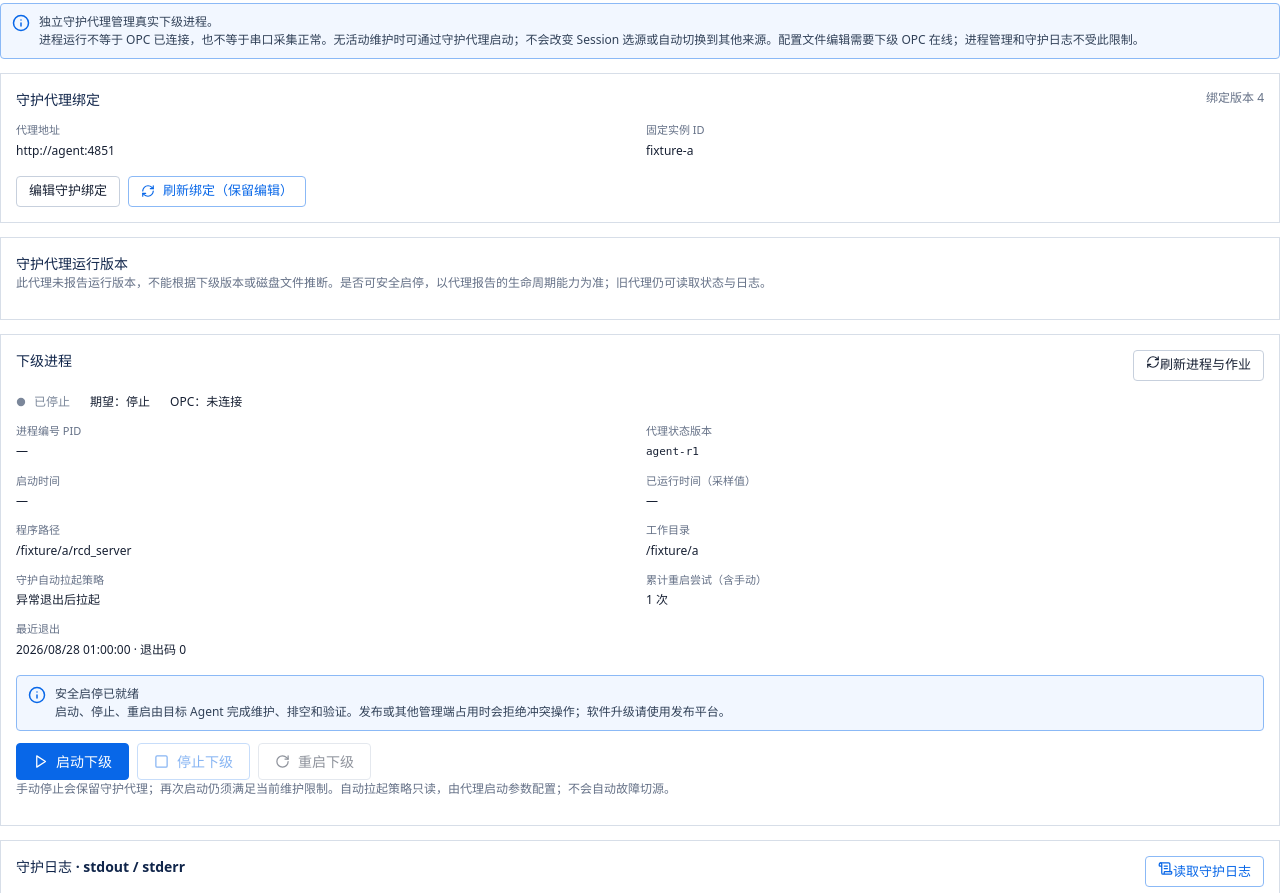
Test: physical process management › waits for the same accepted ID to reach terminal and keeps pending readable
The width and height of the screenshot is (1280, 893).
Expected: the heading "下级进程" is shown, 16,350 -> 72,370
Click the button "启动下级" at (72, 761), box 16,742 -> 129,780
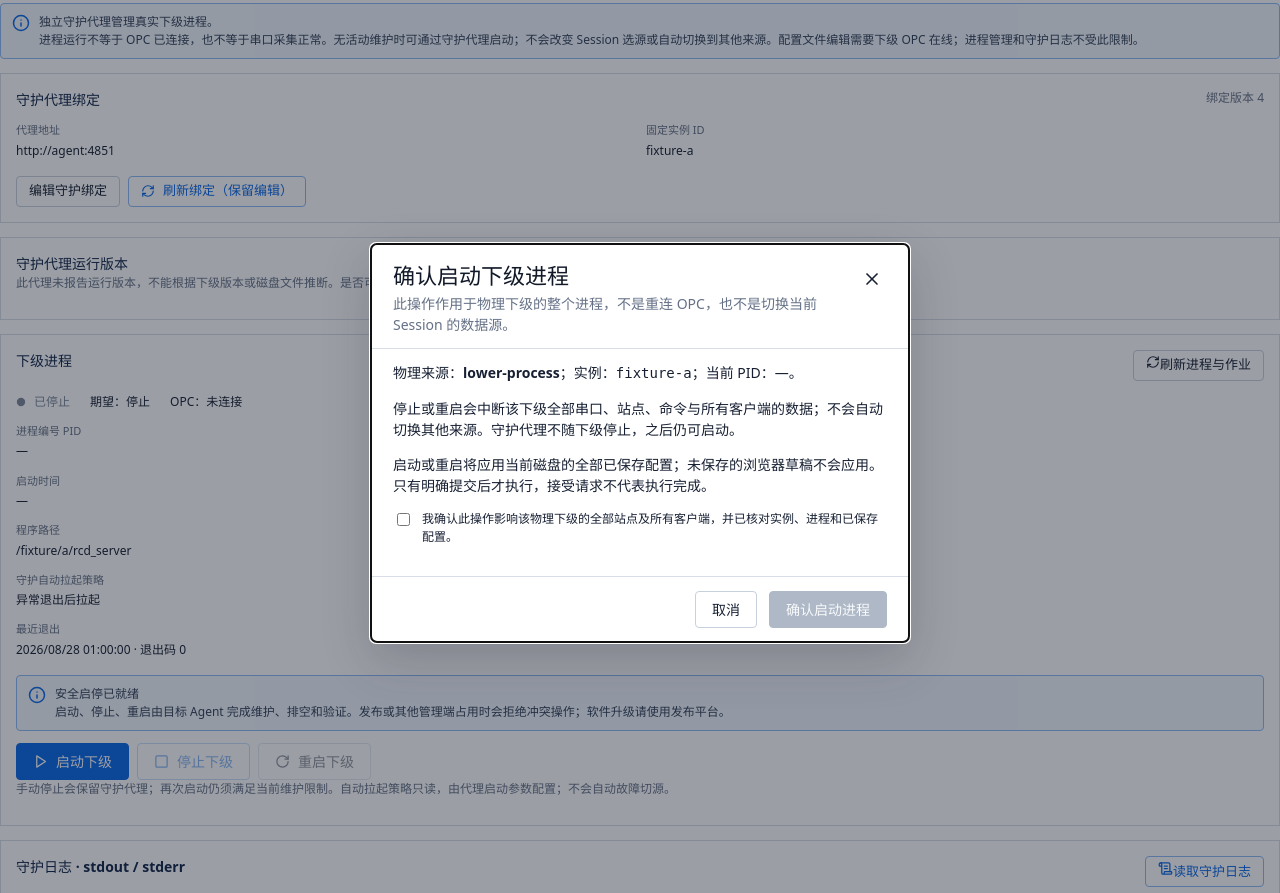
Click the checkbox labelled "我确认此操作影响该物理下级的全部站点及所有客户端，并已核对实例、进程和已保存配置。" at (404, 520), box 397,513 -> 410,526
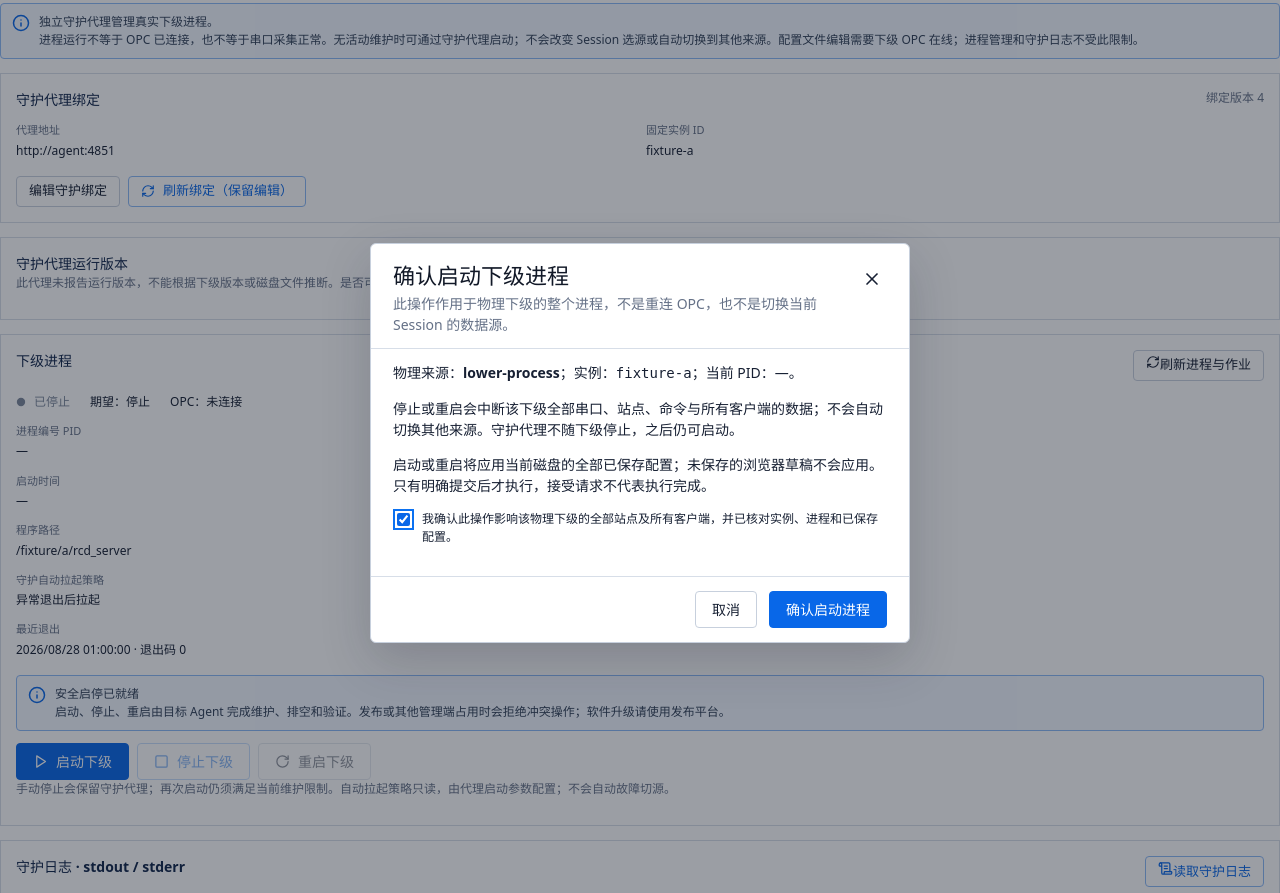
Click the button "确认启动进程" at (828, 610), box 769,591 -> 887,628
(page scrolled)
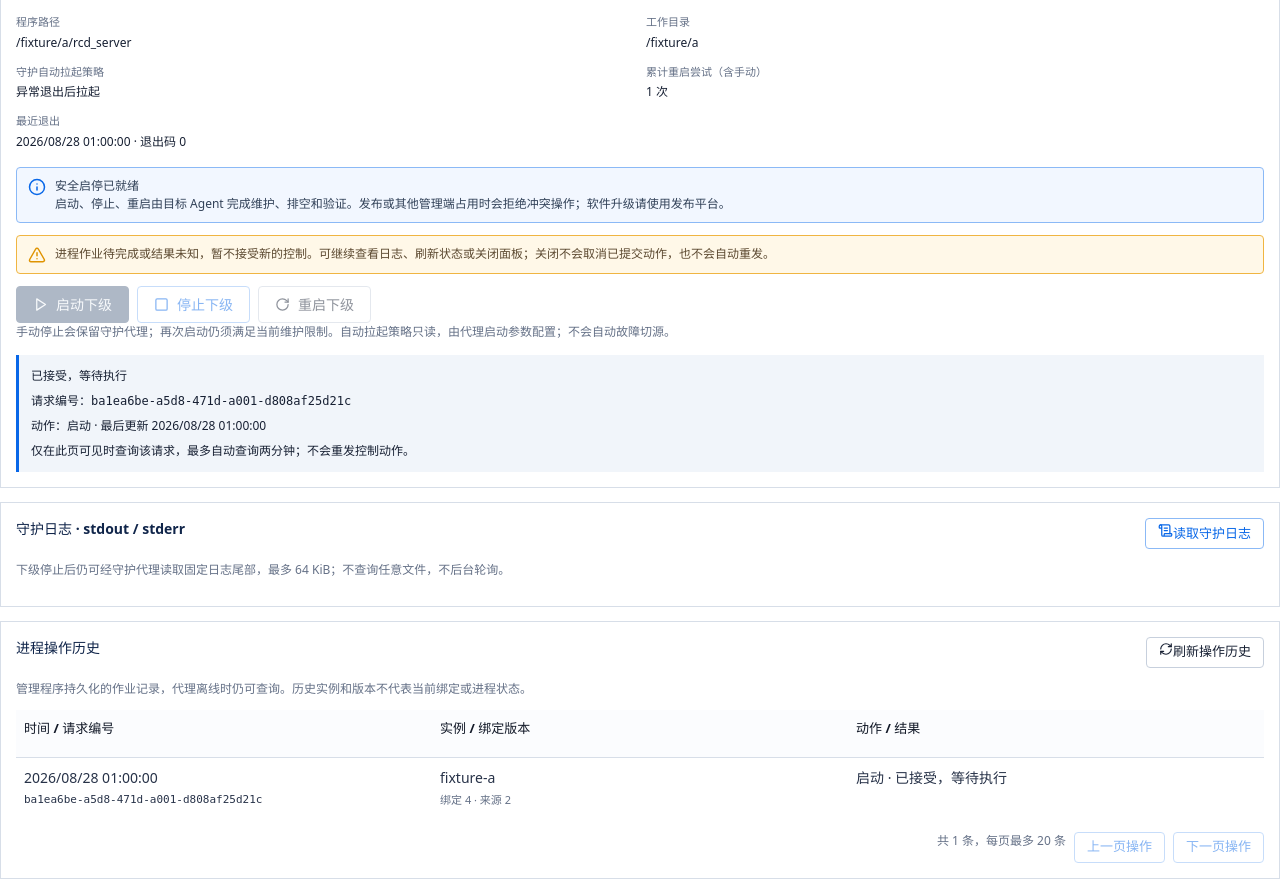
Expected: the text "已接受，等待执行" is shown, 31,366 -> 127,384
Click the button "读取守护日志" at (1204, 533), box 1145,518 -> 1264,548
(page scrolled)
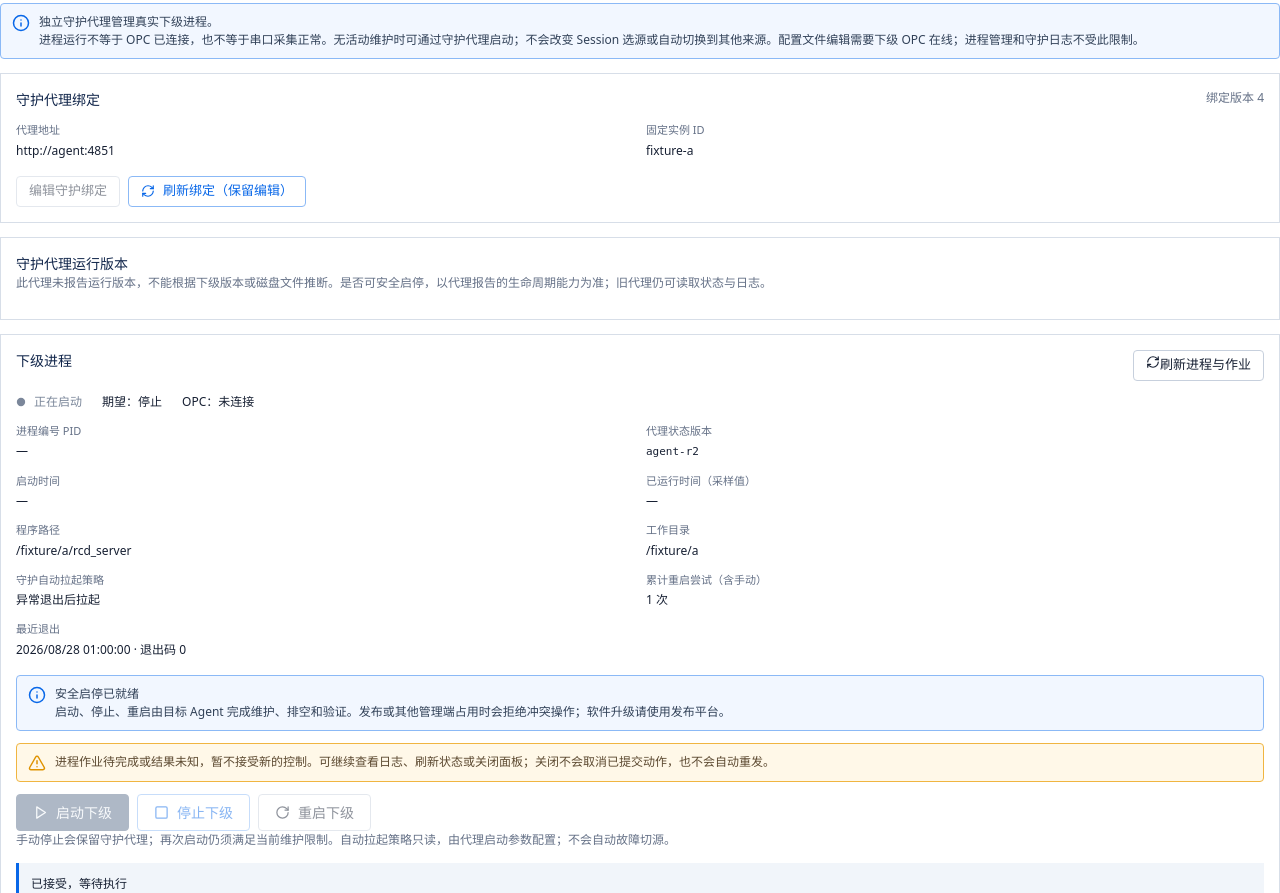
Click the button "刷新进程与作业" at (1198, 365), box 1133,350 -> 1264,380
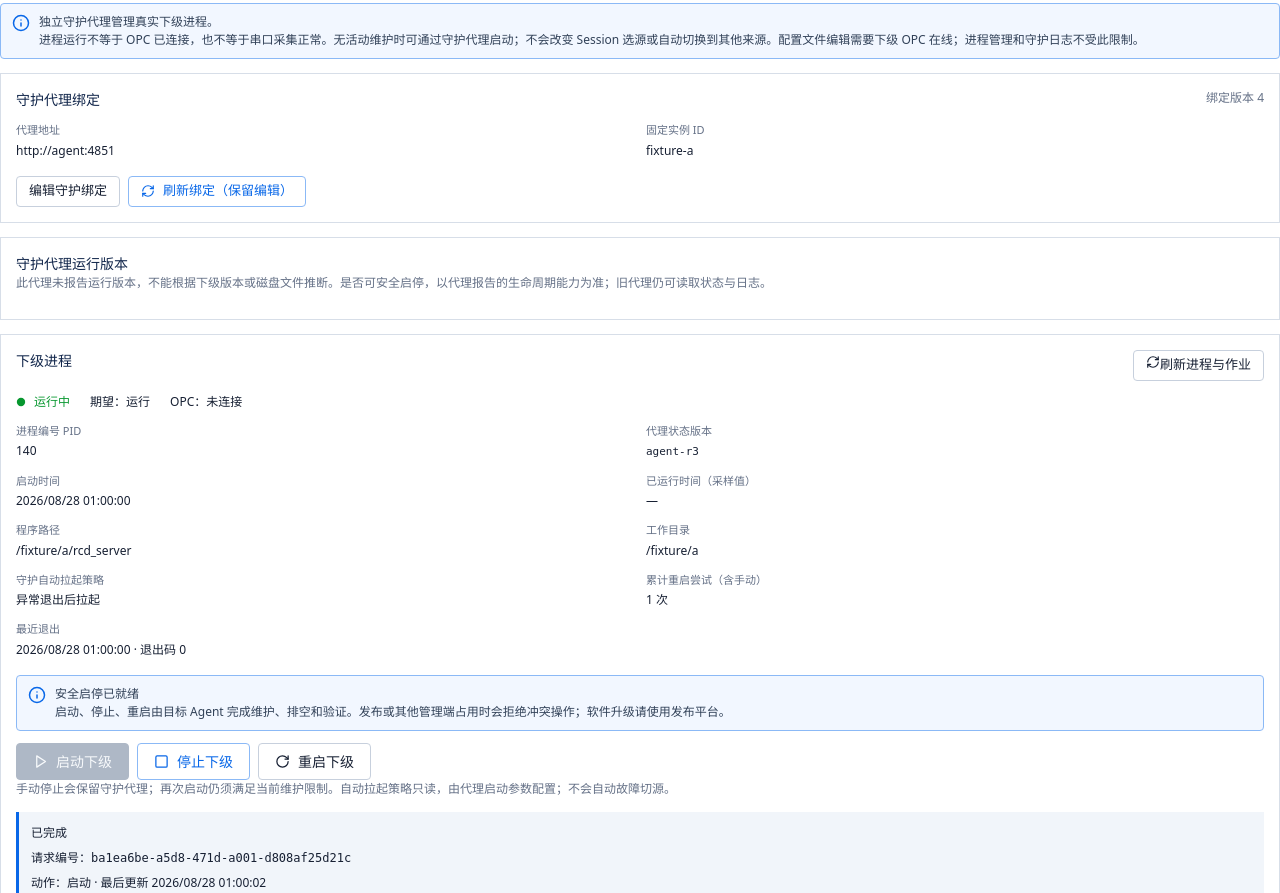
Expected: the text "已完成" is shown, 31,824 -> 67,840
Expected: the button "停止下级" is enabled, 137,742 -> 250,780
